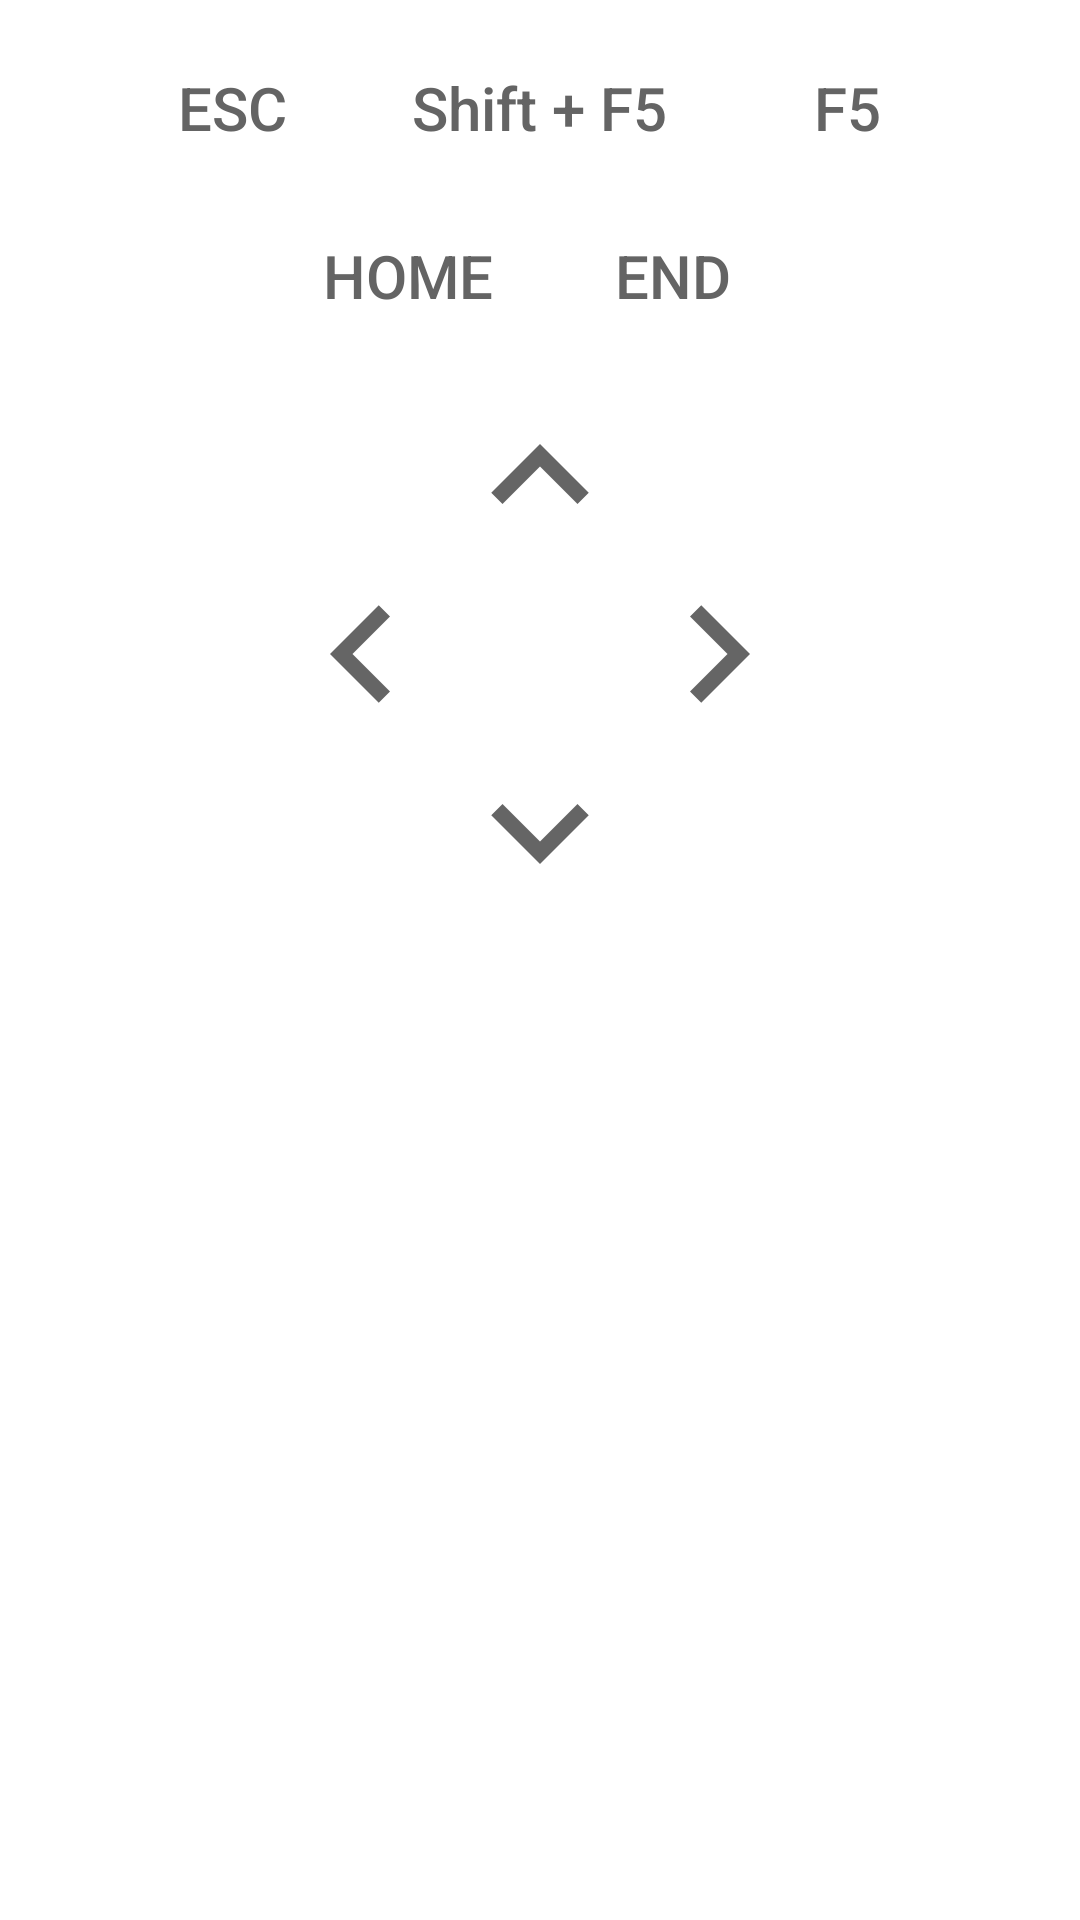

Where icons sit on this 1080×1920 app screen, as (x1, y1, x2, y2):
keyboard arrow down: (491, 804, 589, 864)
keyboard arrow left: (330, 605, 390, 703)
keyboard arrow right: (690, 605, 750, 703)
keyboard arrow up: (491, 444, 589, 504)
